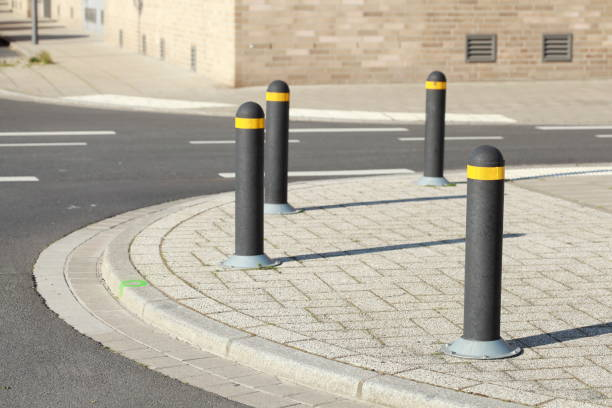bollard: (449, 141, 522, 369), (218, 96, 277, 267), (413, 71, 459, 189)
